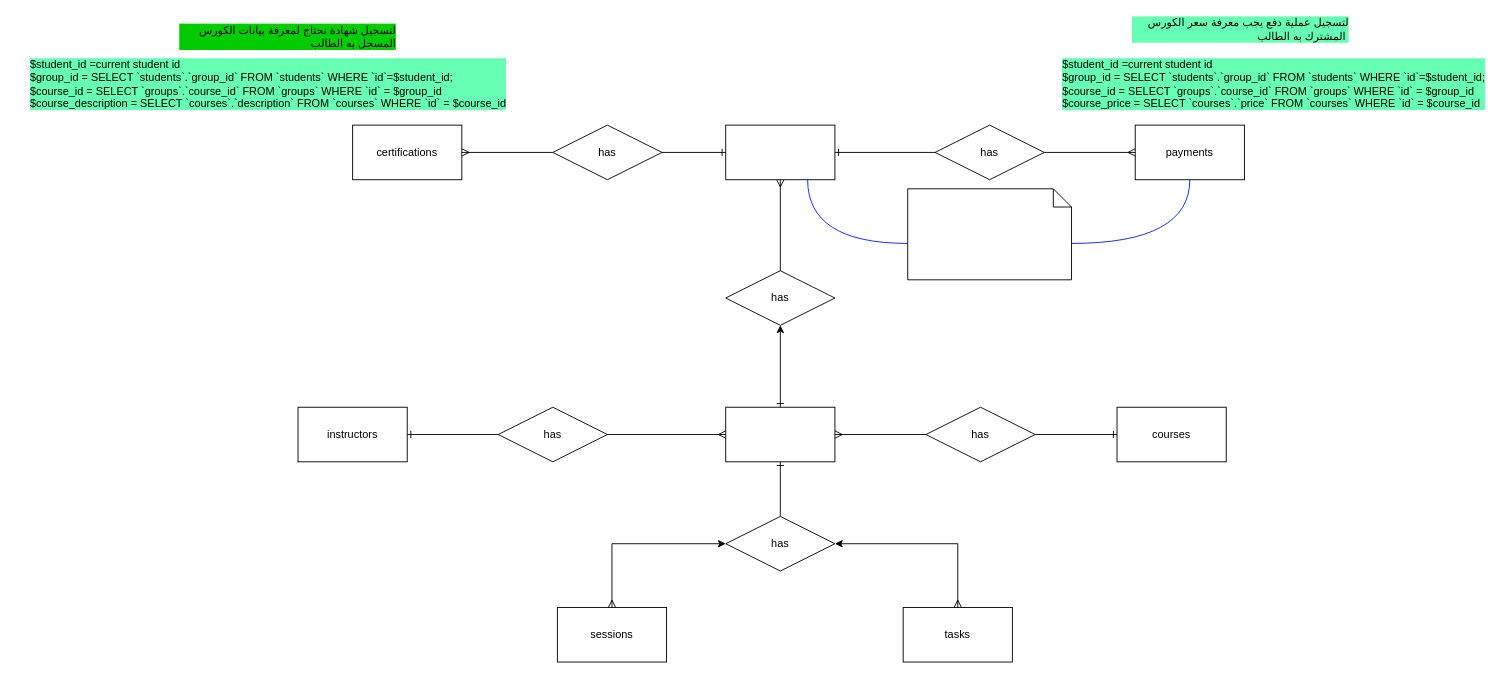
Some shapes in this 1510 by 678 pixel diagram are drawn without their labels. Each missing label, with the centre of its shape:
"@mohamed_amr عمليات الدفع متعلقة بكل طالب على حدى وليست متعلقة بالجروب" belongs at (x=989, y=234).
"groups" belongs at (x=780, y=434).
"students" belongs at (x=780, y=152).
